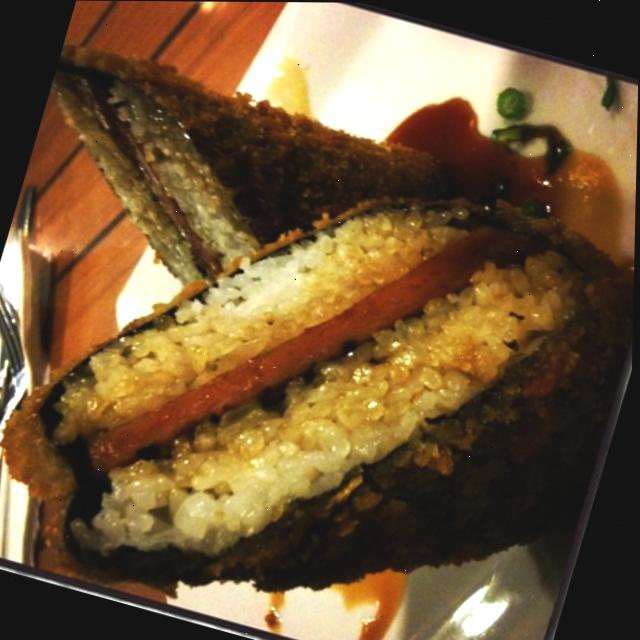寿司卷物: (0, 67, 639, 640)
